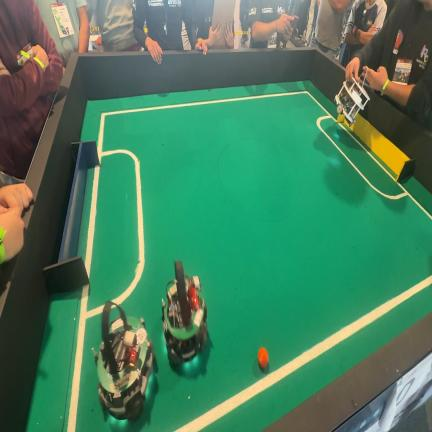cancha: (27, 81, 432, 432)
limites: (96, 90, 432, 303), (176, 276, 432, 432), (67, 284, 103, 432), (337, 122, 396, 180), (85, 167, 99, 277)
pelota: (258, 348, 268, 368)
porteria: (43, 141, 100, 294), (337, 114, 415, 181)
robot: (92, 301, 156, 420), (162, 261, 207, 367), (335, 80, 370, 126)
